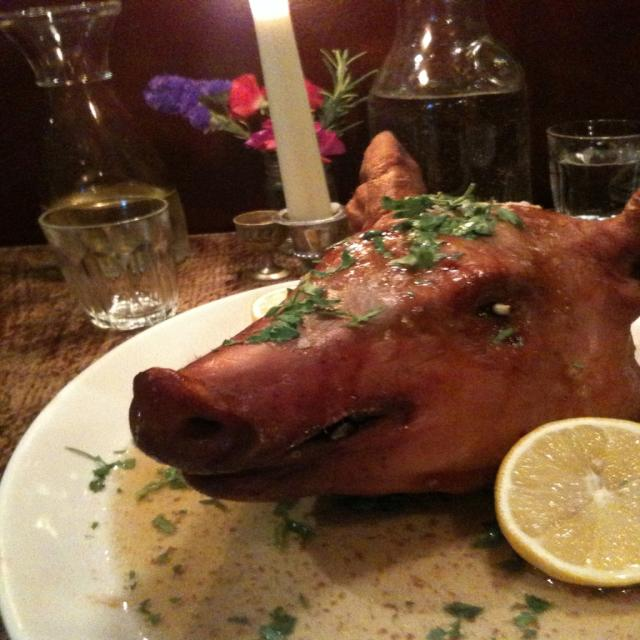Lemon: (494, 410, 638, 588)
